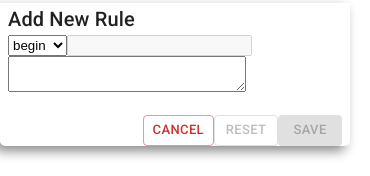
Scenario: eventsutil - newrule › handles reset after rule modification
Type "+2" into the text box with test id "contentRule" at [127, 74], box [8,56,246,92]
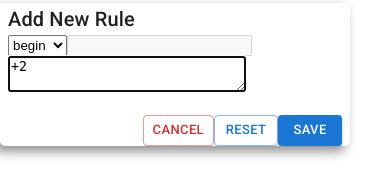
Expected: the button "Reset" is enabled
Click the button "Reset" at [246, 130], box [214,115,278,146]
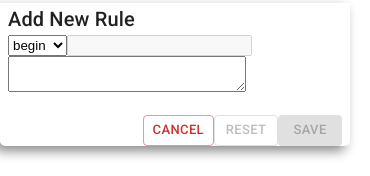
Expected: the button "Reset" is disabled, [214,115,278,146]
